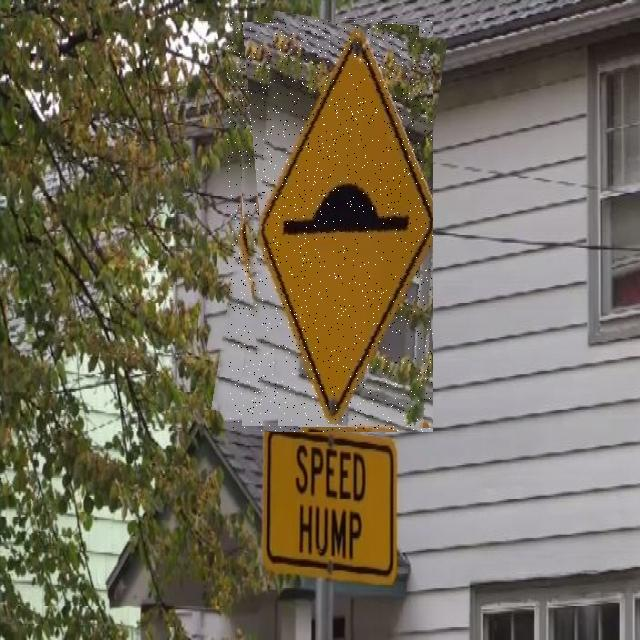hump: (227, 17, 433, 432)
